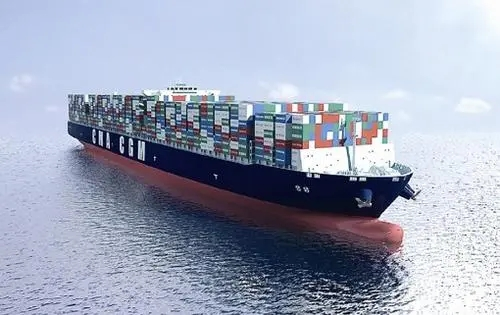Cargoship: (66, 77, 420, 247)
